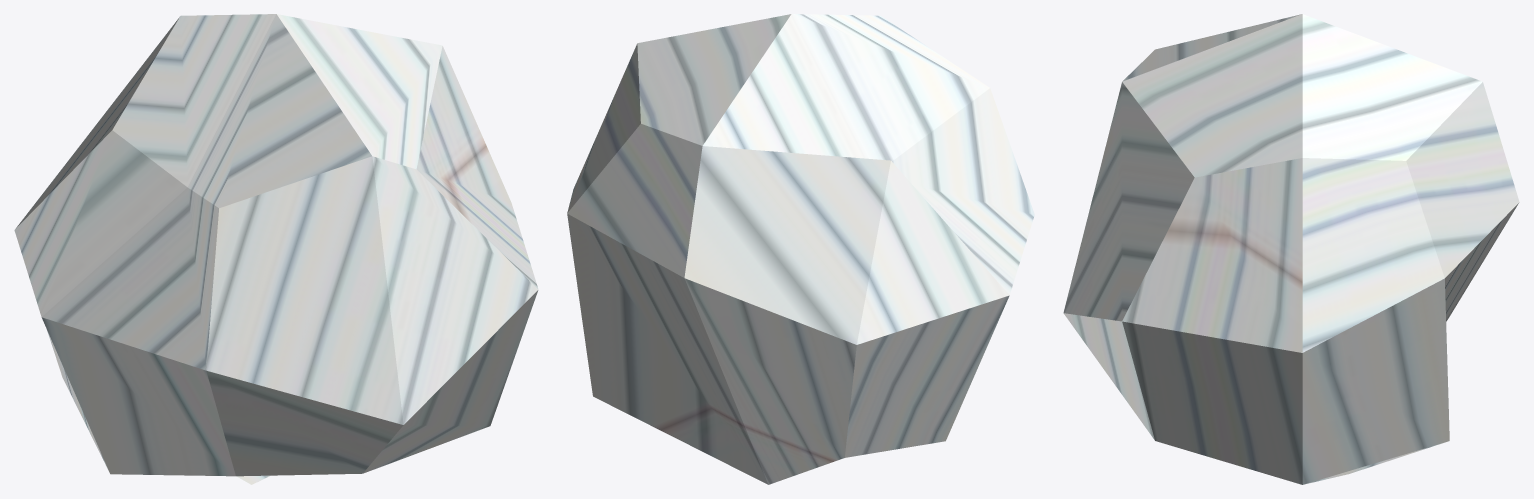
File: Bolinha.obj
3 renders of one model, left to right at view 1: azimuth 30°, elevation 25°; view 2: azimuth 150°, elevation 25°; view 3: azimuth 270°, elevation 25°, orthographic. The views are drawn at different scales.
Visible parts, largest first — view 1: BolinhadePapel_Cubo; view 2: BolinhadePapel_Cubo; view 3: BolinhadePapel_Cubo.
Boxes of the visible parts, <box> form: BolinhadePapel_Cubo: <box>14,14,538,484</box>; BolinhadePapel_Cubo: <box>567,14,1034,484</box>; BolinhadePapel_Cubo: <box>1063,14,1519,484</box>.
Size of the model in its own units: 0.9847 by 0.9796 by 0.8803.
Materials: 1 (1 with a texture image).
